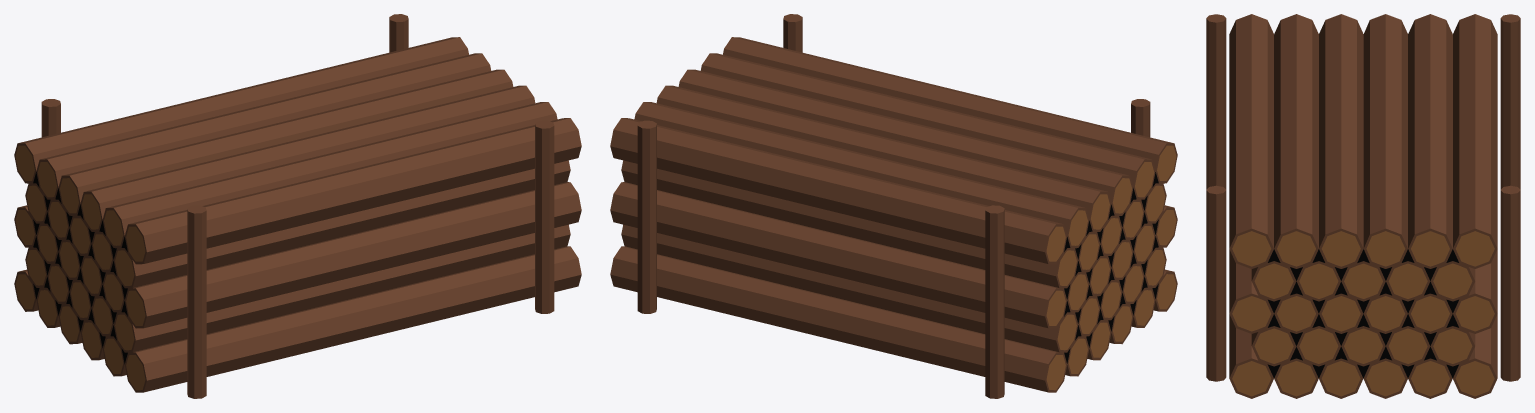
Rendered from LogPile_2.fbx.
3 views of the same model, side by side, from view 1: azimuth 30°, elevation 25°; view 2: azimuth 150°, elevation 25°; view 3: azimuth 270°, elevation 25° (orthographic).
Visible parts, largest first — view 1: LogPile_2; view 2: LogPile_2; view 3: LogPile_2.
Part boxes in pixels (<box>): LogPile_2: <box>14,14,581,398</box>; LogPile_2: <box>610,14,1177,398</box>; LogPile_2: <box>1206,14,1520,398</box>.
Bounding box in the file's own units: 0.54 × 0.22 × 0.3346.
